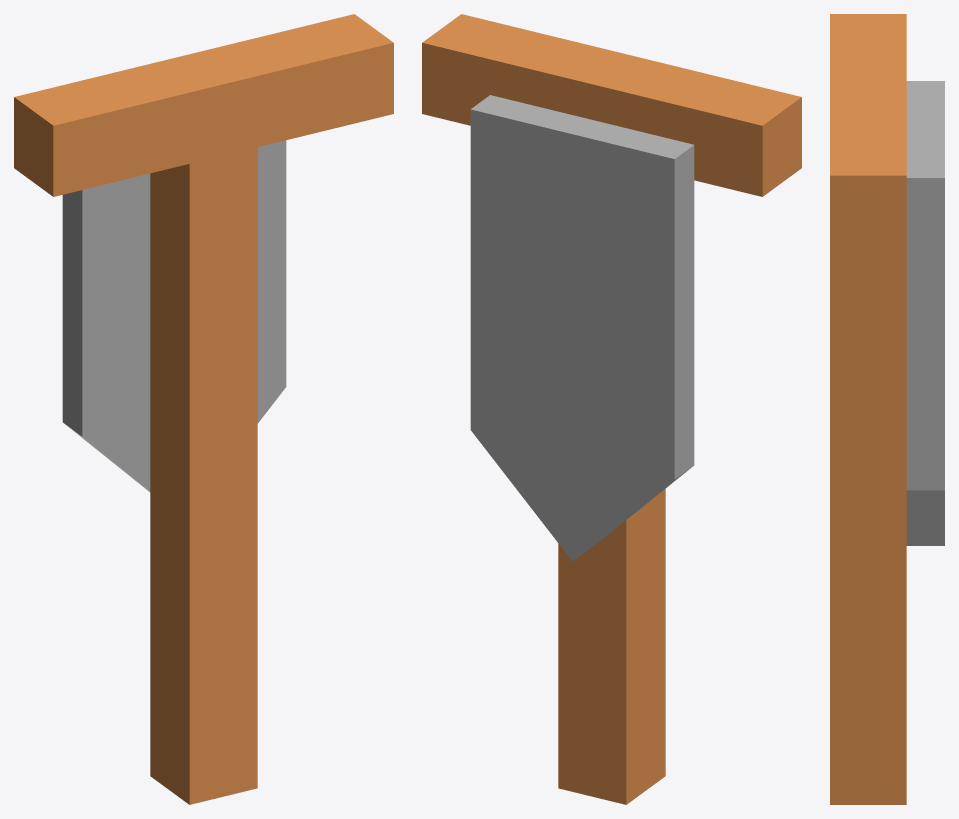
File: Banner.fbx
The picture shows the model from 3 angles, left to right: view 1: azimuth 30°, elevation 25°; view 2: azimuth 150°, elevation 25°; view 3: azimuth 270°, elevation 25°; orthographic projection. The views are drawn at different scales.
Parts seen in each view (by area): view 1: Flag; view 2: Flag; view 3: Flag.
Boxes of the visible parts, x1,y1,x2,y2 form: Flag: (14,14,393,804); Flag: (422,14,801,804); Flag: (830,14,944,804).
Size of the model in its own units: 1 by 2 by 0.3.
